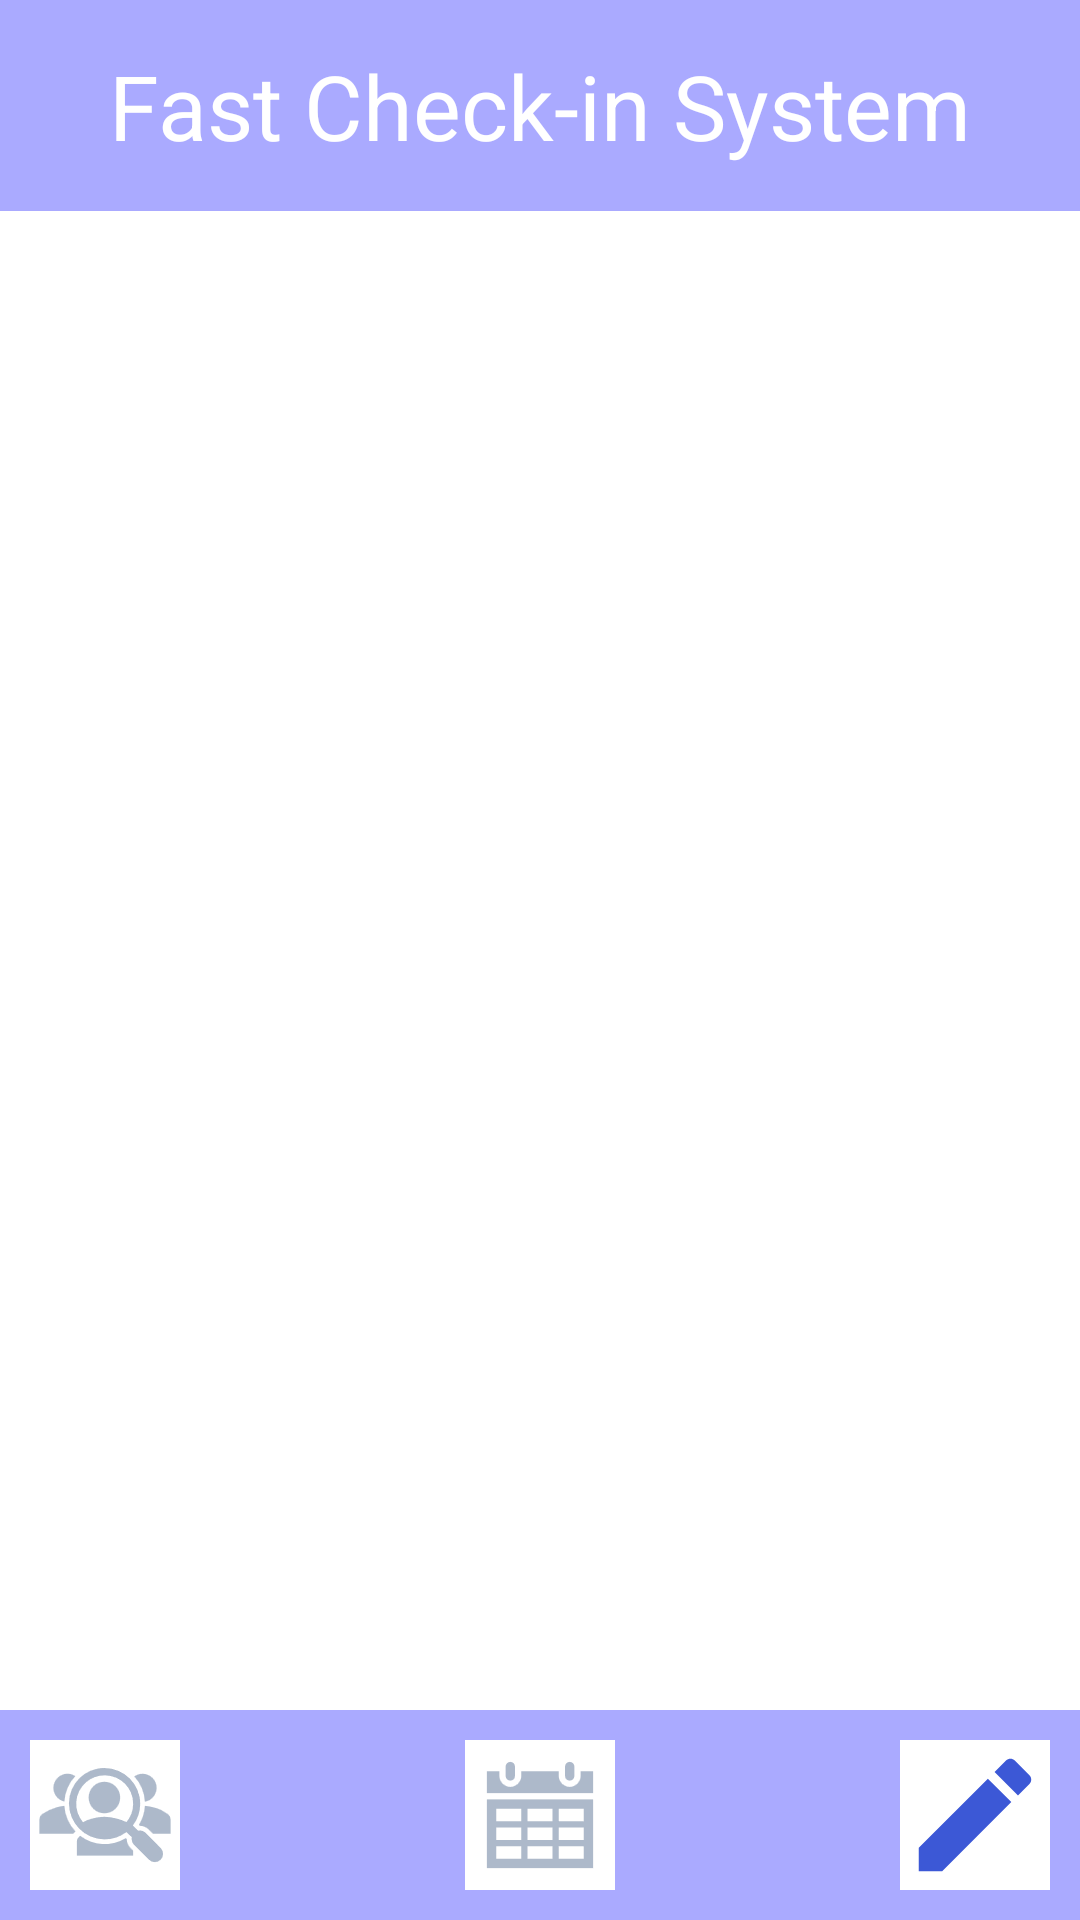

Named icons in this screenshot (1080w x 1920h) and their centers, point (x, y):
appointment: point (540, 1815)
edit: point (975, 1815)
